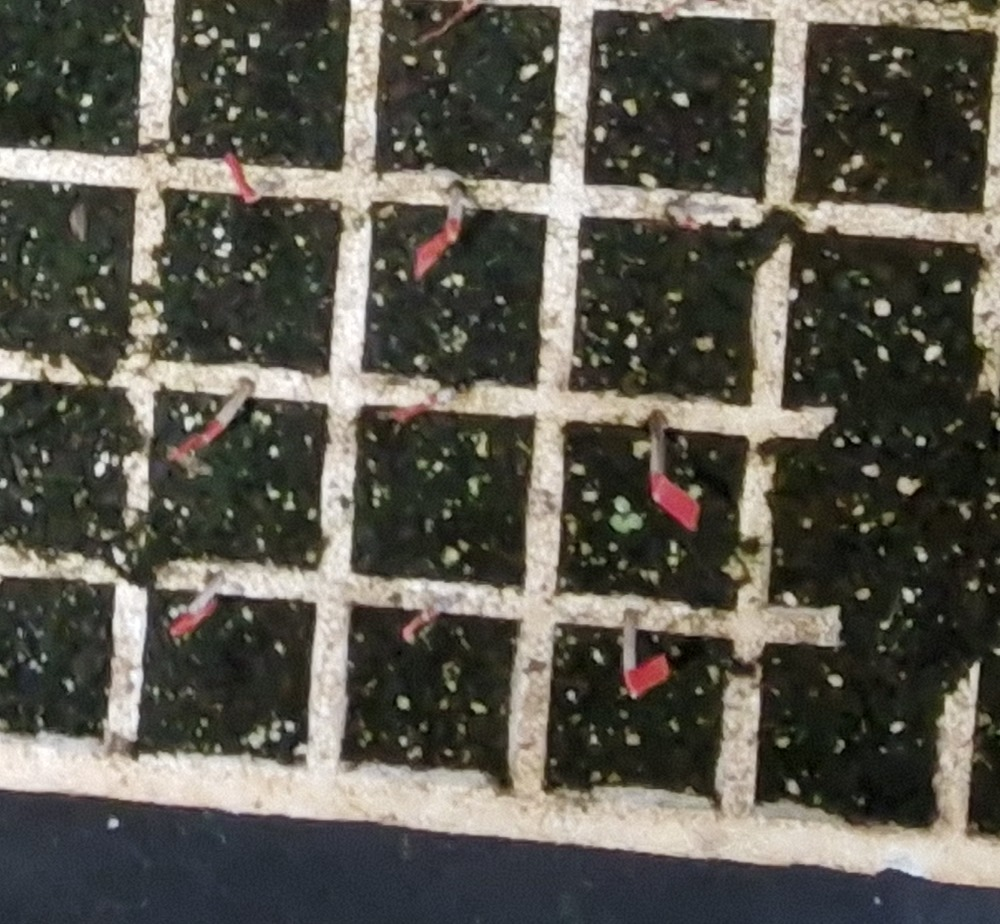Folha: (609, 514, 627, 531), (627, 512, 643, 531), (615, 496, 630, 513)
Germinacao: (609, 495, 644, 533)
